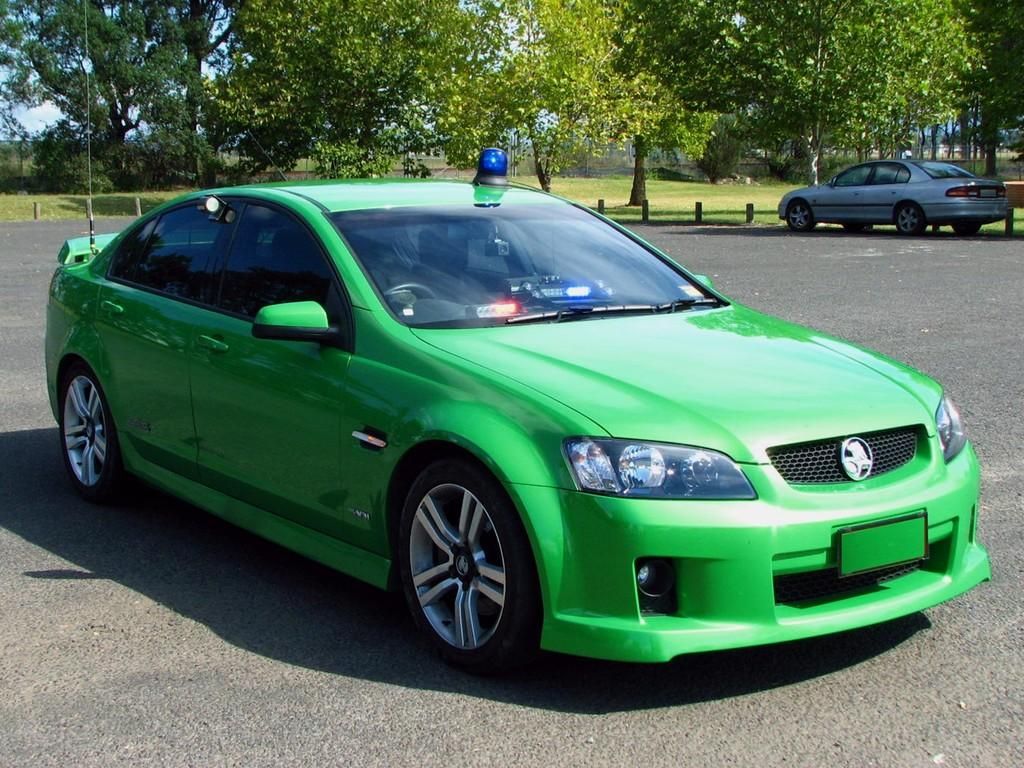Car: (45, 150, 995, 677), (775, 154, 1012, 234)
